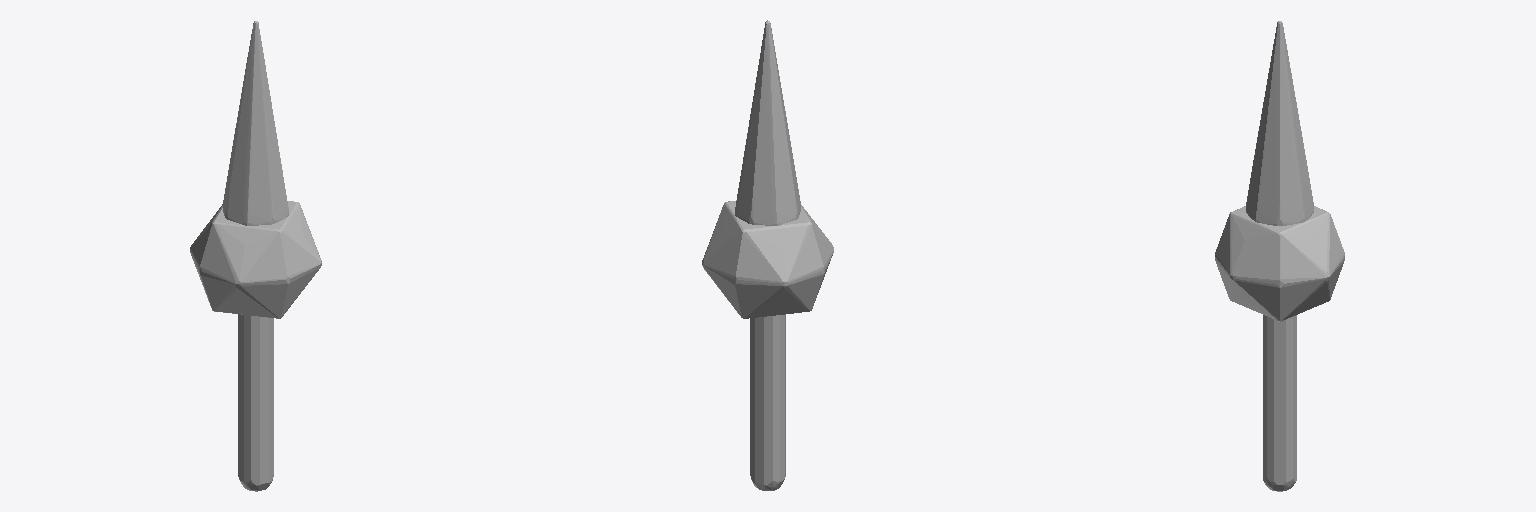
URDF robot description (root):
<robot name="root">
  <link name="link_coacd_convex_piece_0">
    <inertial>
      <origin xyz="0 0 0" rpy="0 0 0"/>
      <inertia ixx="3.05E-03" ixy="-6.63E-08" ixz="-1.80E-09" iyy="1.76E-05" iyz="-5.33E-08" izz="3.05E-03"/>
    </inertial>
    <visual>
      <origin xyz="0 0 0" rpy="0 0 0"/>
      <geometry>
        <mesh filename="coacd_convex_piece_0.obj" scale="1.0000E+00 1.0000E+00 1.0000E+00"/>
      </geometry>
      <material name="">
        <color rgba="7.50E-01 7.50E-01 7.50E-01 1"/>
      </material>
    </visual>
    <collision>
      <origin xyz="0 0 0" rpy="0 0 0"/>
      <geometry>
        <mesh filename="coacd_convex_piece_0.obj" scale="1.0000E+00 1.0000E+00 1.0000E+00"/>
      </geometry>
    </collision>
  </link>
  <link name="link_coacd_convex_piece_1">
    <inertial>
      <origin xyz="0 0 0" rpy="0 0 0"/>
      <inertia ixx="7.65E-04" ixy="1.20E-06" ixz="4.57E-07" iyy="8.50E-04" iyz="3.80E-07" izz="7.67E-04"/>
    </inertial>
    <visual>
      <origin xyz="0 0 0" rpy="0 0 0"/>
      <geometry>
        <mesh filename="coacd_convex_piece_1.obj" scale="1.0000E+00 1.0000E+00 1.0000E+00"/>
      </geometry>
      <material name="">
        <color rgba="7.50E-01 7.50E-01 7.50E-01 1"/>
      </material>
    </visual>
    <collision>
      <origin xyz="0 0 0" rpy="0 0 0"/>
      <geometry>
        <mesh filename="coacd_convex_piece_1.obj" scale="1.0000E+00 1.0000E+00 1.0000E+00"/>
      </geometry>
    </collision>
  </link>
  <joint name="link_coacd_convex_piece_1_joint" type="fixed">
    <origin xyz="0 0 0" rpy="0 0 0"/>
    <parent link="link_coacd_convex_piece_0"/>
    <child link="link_coacd_convex_piece_1"/>
  </joint>
  <link name="link_coacd_convex_piece_2">
    <inertial>
      <origin xyz="0 0 0" rpy="0 0 0"/>
      <inertia ixx="2.03E-03" ixy="2.83E-07" ixz="4.45E-08" iyy="5.24E-05" iyz="2.14E-07" izz="2.03E-03"/>
    </inertial>
    <visual>
      <origin xyz="0 0 0" rpy="0 0 0"/>
      <geometry>
        <mesh filename="coacd_convex_piece_2.obj" scale="1.0000E+00 1.0000E+00 1.0000E+00"/>
      </geometry>
      <material name="">
        <color rgba="7.50E-01 7.50E-01 7.50E-01 1"/>
      </material>
    </visual>
    <collision>
      <origin xyz="0 0 0" rpy="0 0 0"/>
      <geometry>
        <mesh filename="coacd_convex_piece_2.obj" scale="1.0000E+00 1.0000E+00 1.0000E+00"/>
      </geometry>
    </collision>
  </link>
  <joint name="link_coacd_convex_piece_2_joint" type="fixed">
    <origin xyz="0 0 0" rpy="0 0 0"/>
    <parent link="link_coacd_convex_piece_1"/>
    <child link="link_coacd_convex_piece_2"/>
  </joint>
</robot>

--- Facts derived from the render (not from the file) ---
3 views of the same robot in one strip: view 1: azimuth 30°, elevation 25°; view 2: azimuth 150°, elevation 25°; view 3: azimuth 270°, elevation 25° (orthographic).
Robot: root — 3 links, 2 joints (2 fixed); root link link_coacd_convex_piece_0; default pose: all joints at 0.
Links seen in each view (by area): view 1: link_coacd_convex_piece_1, link_coacd_convex_piece_2, link_coacd_convex_piece_0; view 2: link_coacd_convex_piece_1, link_coacd_convex_piece_2, link_coacd_convex_piece_0; view 3: link_coacd_convex_piece_1, link_coacd_convex_piece_2, link_coacd_convex_piece_0.
Link boxes in pixels (x1,y1,x2,y2): link_coacd_convex_piece_1: (190, 201, 321, 318); link_coacd_convex_piece_2: (223, 21, 288, 225); link_coacd_convex_piece_0: (238, 314, 273, 491); link_coacd_convex_piece_1: (702, 200, 833, 318); link_coacd_convex_piece_2: (735, 20, 800, 225); link_coacd_convex_piece_0: (750, 314, 785, 490); link_coacd_convex_piece_1: (1215, 206, 1344, 321); link_coacd_convex_piece_2: (1246, 21, 1313, 225); link_coacd_convex_piece_0: (1263, 315, 1296, 491).
Bounding box of the posed robot: 0.4903 × 0.4903 × 1.96 m (x, y, z).
Meshes: 3 distinct files referenced, 3 mesh visuals loaded (3 OBJ).
